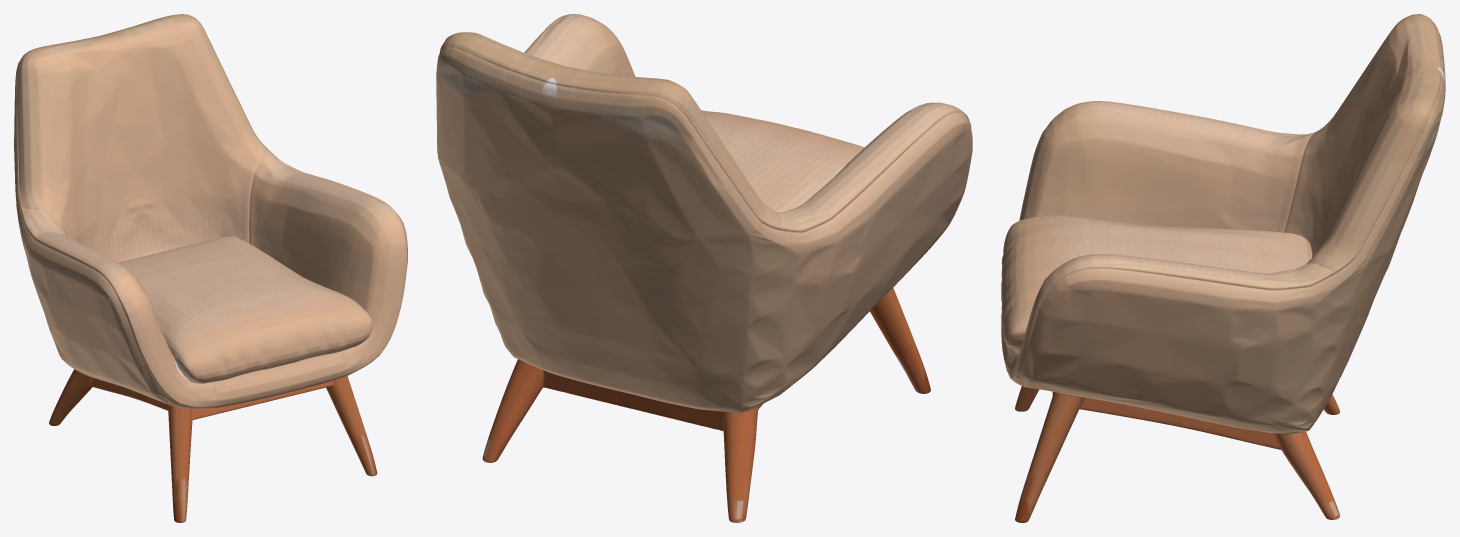
3 renders of one model, left to right at view 1: azimuth 30°, elevation 25°; view 2: azimuth 150°, elevation 25°; view 3: azimuth 270°, elevation 25°, orthographic. The views are drawn at different scales.
Parts seen in each view (by area): view 1: Mesh_0; view 2: Mesh_0; view 3: Mesh_0.
Boxes of the visible parts, x1,y1,x2,y2 form: Mesh_0: [14, 14, 407, 522]; Mesh_0: [436, 14, 972, 522]; Mesh_0: [1001, 14, 1445, 522].
Size of the model in its own units: 0.7737 by 0.85 by 0.8424.
1 material, 1 textured.
